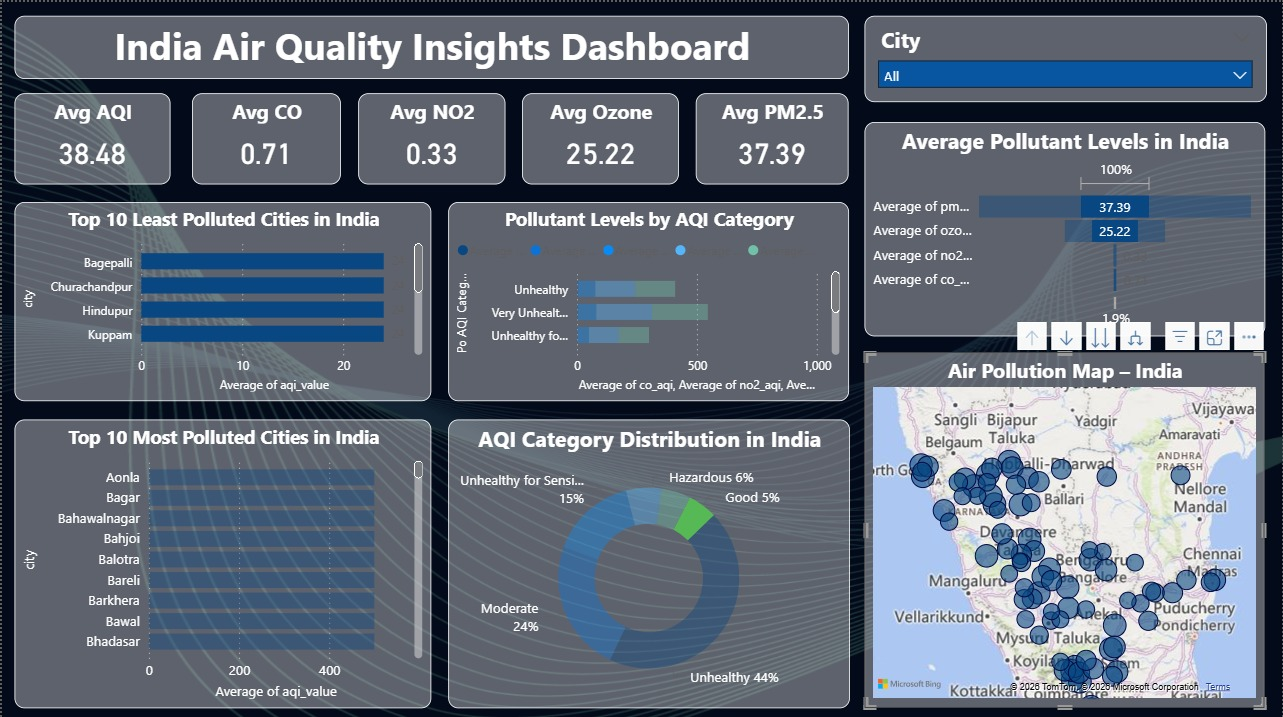

This screenshot's page, from the dashboard's own definition file:
{"tool":"powerbi","page":{"name":"Page 1","canvas":[1280,720],"ordinal":0},"visuals":[{"type":"clusteredBarChart","title":"Top 10 Most Polluted Cities in India","fields":{"Category":["public pollution.city"],"Y":["Avg(public pollution.aqi_value)"]},"box":[12.9,417.1,417.1,288.6],"z":0},{"type":"textbox","title":"India Air Quality Insights Dashboard","box":[12.9,14.3,834.3,62.9],"z":1000},{"type":"donutChart","title":"AQI Category Distribution in India","fields":{"Y":["CountNonNull(public pollution.aqi_category)"],"Category":["public pollution.aqi_category"]},"box":[445.7,417.1,401.4,288.6],"z":2000},{"type":"slicer","fields":{"Values":["public pollution.city"]},"box":[863.1,13.7,402.1,86.4],"z":3000},{"type":"funnel","title":"Average Pollutant Levels in India","fields":{"Y":["Avg(public pollution.pm25_aqi)","Avg(public pollution.ozone_aqi)","Avg(public pollution.no2_aqi)","Avg(public pollution.co_aqi)"]},"box":[863.1,119.4,400.7,214.1],"z":4000},{"type":"card","title":"Avg AQI","fields":{"Values":["Avg(public pollution.aqi_value)"]},"box":[12.9,91.4,155.7,91.4],"z":5000},{"type":"card","title":"Avg NO2","fields":{"Values":["Avg(public pollution.no2_aqi)"]},"box":[355.7,91.4,147.1,91.4],"z":6000},{"type":"card","title":"Avg Ozone","fields":{"Values":["Avg(public pollution.ozone_aqi)"]},"box":[520,91.4,157.1,91.4],"z":7000},{"type":"card","title":"Avg PM2.5","fields":{"Values":["Avg(public pollution.pm25_aqi)"]},"box":[694.3,91.4,152.9,91.4],"z":8000},{"type":"card","title":"Avg CO","fields":{"Values":["Avg(public pollution.co_aqi)"]},"box":[190,91.4,148.6,91.4],"z":9000},{"type":"map","title":"Air Pollution Map – India","fields":{"Category":["public pollution.city","public pollution.country"],"Size":["Avg(public pollution.aqi_value)"]},"box":[862.9,350,400,355.7],"z":10000},{"type":"clusteredBarChart","title":"Top 10 Least Polluted Cities in India","fields":{"Category":["public pollution.city"],"Y":["Avg(public pollution.aqi_value)"]},"box":[12.3,200.3,417.2,199],"z":11000},{"type":"barChart","title":"Pollutant Levels by AQI Category","fields":{"Category":["public pollution.aqi_category"],"Y":["Avg(public pollution.co_aqi)","Avg(public pollution.no2_aqi)","Avg(public pollution.ozone_aqi)","Avg(public pollution.pm25_aqi)","Avg(public pollution.aqi_value)"]},"box":[446,200.3,400.7,199],"z":12000}]}

Visuals, with their boxes in screenshot pixels (x1, y1, x2, y2), scaled from the page's 1280x720 canvas onto the 1283x717 screenshot:
"Top 10 Most Polluted Cities in India" clusteredBarChart: <box>13,415,431,703</box>
"India Air Quality Insights Dashboard" textbox: <box>13,14,849,77</box>
"AQI Category Distribution in India" donutChart: <box>447,415,849,703</box>
slicer - public pollution.city: <box>865,14,1268,100</box>
"Average Pollutant Levels in India" funnel: <box>865,119,1267,332</box>
"Avg AQI" card: <box>13,91,169,182</box>
"Avg NO2" card: <box>357,91,504,182</box>
"Avg Ozone" card: <box>521,91,679,182</box>
"Avg PM2.5" card: <box>696,91,849,182</box>
"Avg CO" card: <box>190,91,339,182</box>
"Air Pollution Map – India" map: <box>865,349,1266,703</box>
"Top 10 Least Polluted Cities in India" clusteredBarChart: <box>12,199,431,398</box>
"Pollutant Levels by AQI Category" barChart: <box>447,199,849,398</box>
